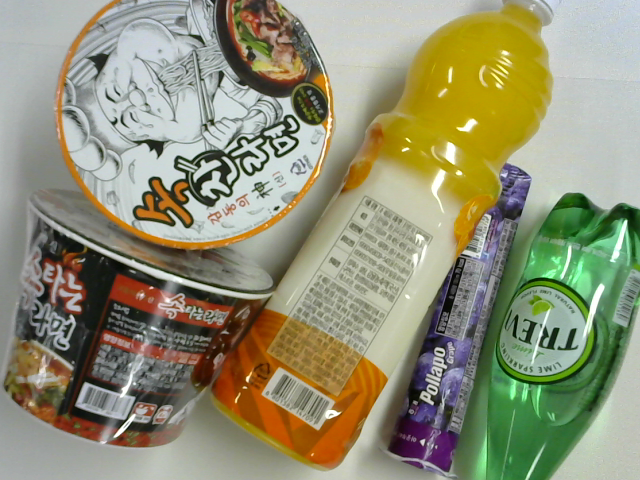HeJangsock: (5, 188, 275, 447)
Hejangchan: (55, 1, 333, 249)
Jeju_Tangerine_1.5L: (207, 1, 566, 471)
Polapo_Grape: (384, 162, 532, 477)
Treviraim_500ml: (485, 190, 640, 480)
